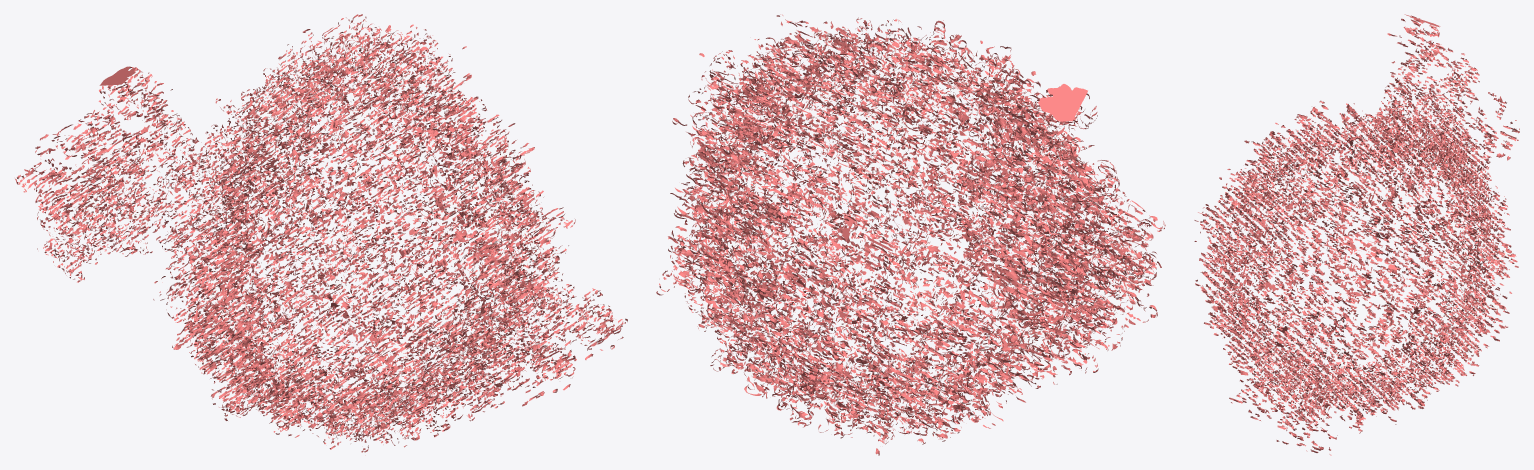
The model's file is cassiopeia-a-supernova-b-2023.glb.
3 renders of one model, left to right at view 1: azimuth 30°, elevation 25°; view 2: azimuth 150°, elevation 25°; view 3: azimuth 270°, elevation 25°, orthographic. The views are drawn at different scales.
Parts seen in each view (by area): view 1: CasA_2023; view 2: CasA_2023; view 3: CasA_2023.
Boxes of the visible parts, x1,y1,x2,y2 form: CasA_2023: (15, 14, 627, 455); CasA_2023: (656, 14, 1165, 455); CasA_2023: (1194, 14, 1519, 455).
Size of the model in its own units: 15.94 by 11.65 by 11.
